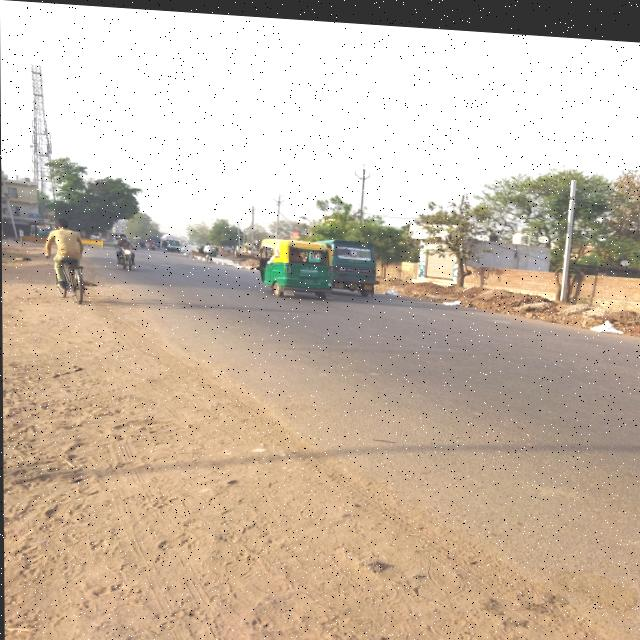plate: (122, 251, 131, 254)
